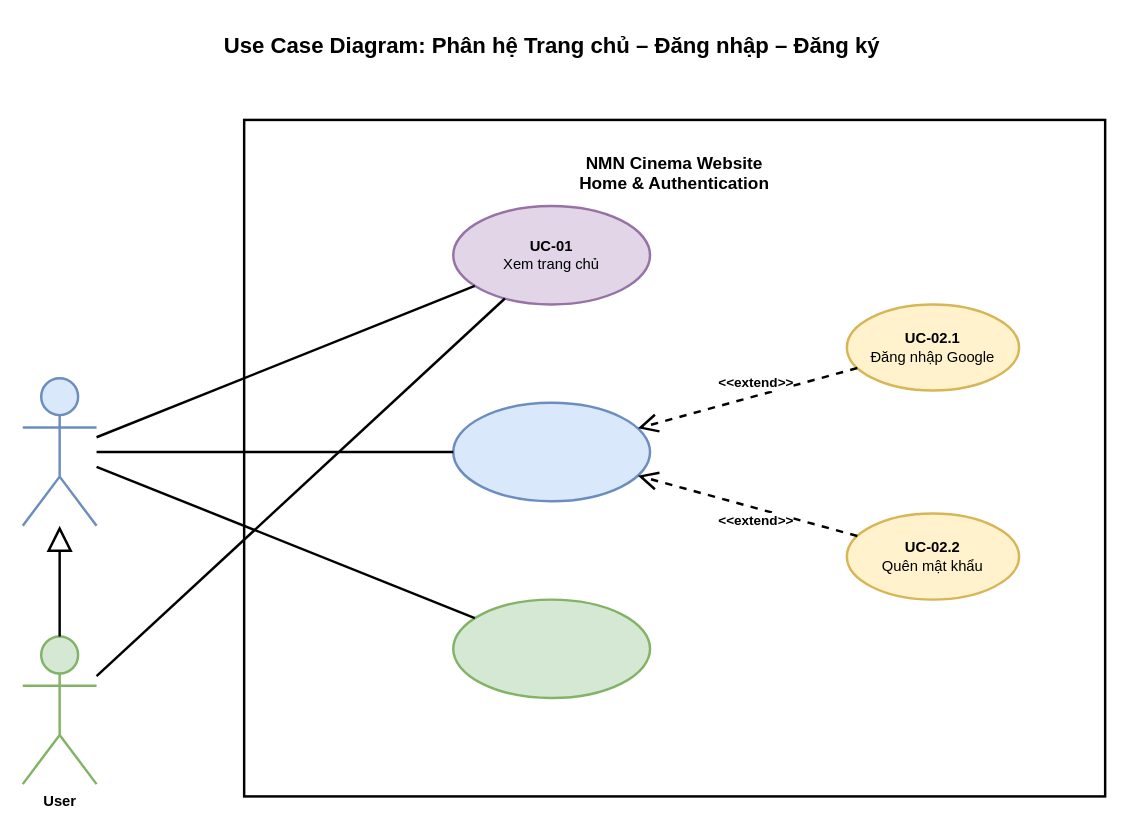
Some shapes in this 1127 by 830 pixel diagram are drawn without their labels. The centre of each missing label's shape, as x and y in pixels:
Guest: the point at 59,451
UC-02 Đăng nhập: the point at 551,451
UC-03 Đăng ký: the point at 551,648
